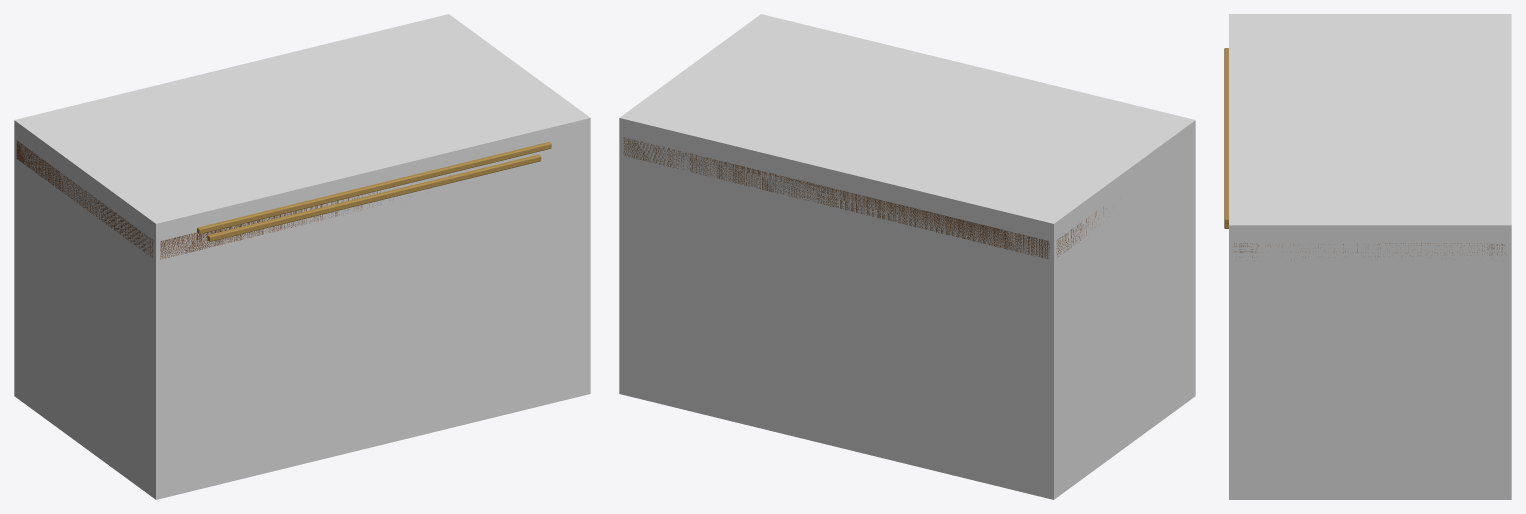
File: display-table_luxury.glb
The picture shows the model from 3 angles, left to right: view 1: azimuth 30°, elevation 25°; view 2: azimuth 150°, elevation 25°; view 3: azimuth 270°, elevation 25°; orthographic projection.
Parts seen in each view (by area): view 1: COL_display-table, MESH_DisplayTop, MESH_TierTrim_01, MESH_TierTrim_02; view 2: COL_display-table, MESH_DisplayTop; view 3: COL_display-table, MESH_TierTrim_01.
Part boxes in pixels (left/top/right/bottom): COL_display-table: left=14, top=14, right=590, bottom=499; MESH_DisplayTop: left=16, top=140, right=450, bottom=259; MESH_TierTrim_01: left=197, top=142, right=551, bottom=234; MESH_TierTrim_02: left=207, top=154, right=541, bottom=241; COL_display-table: left=619, top=14, right=1195, bottom=499; MESH_DisplayTop: left=623, top=137, right=1103, bottom=258; COL_display-table: left=1229, top=14, right=1511, bottom=499; MESH_TierTrim_01: left=1224, top=48, right=1228, bottom=224.
Size of the model in its own units: 1.45 by 0.88 by 0.833.
